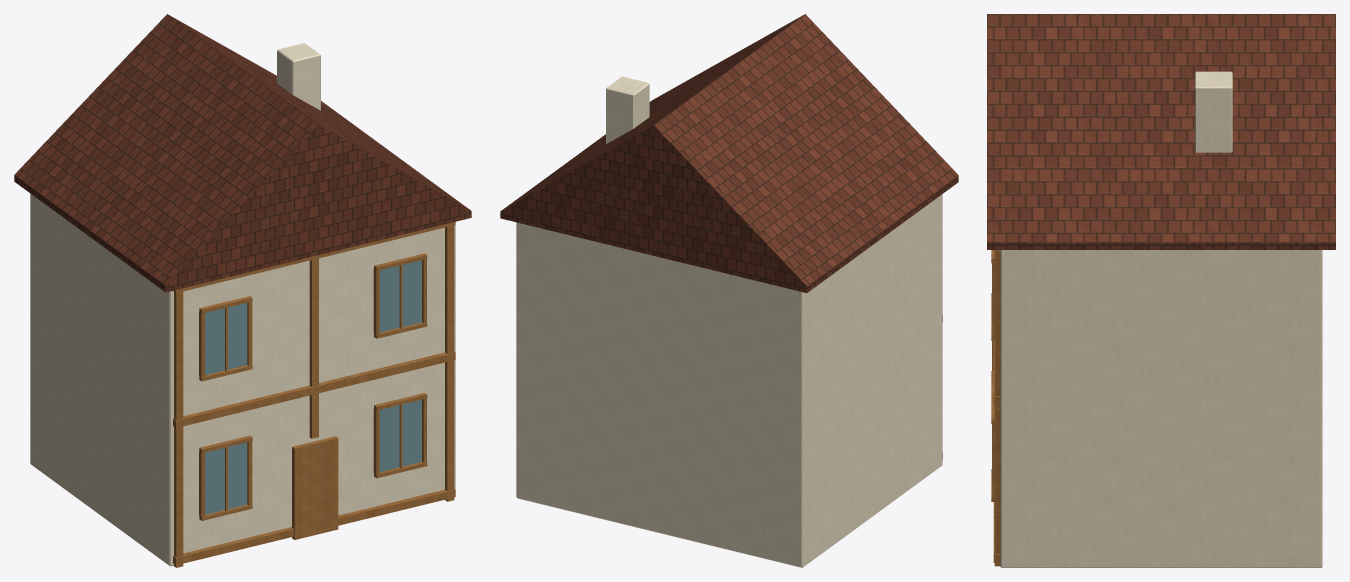
The model's file is Furn_Town_House_A.fbx.
The picture shows the model from 3 angles, left to right: view 1: azimuth 30°, elevation 25°; view 2: azimuth 150°, elevation 25°; view 3: azimuth 270°, elevation 25°; orthographic projection. The views are drawn at different scales.
Visible parts, largest first — view 1: Furn_Town_House_A_Mesh; view 2: Furn_Town_House_A_Mesh; view 3: Furn_Town_House_A_Mesh.
Boxes of the visible parts, x1=… form: Furn_Town_House_A_Mesh: x1=14, y1=14, x2=471, y2=567; Furn_Town_House_A_Mesh: x1=500, y1=14, x2=958, y2=567; Furn_Town_House_A_Mesh: x1=987, y1=14, x2=1335, y2=567.
Bounding box in the file's own units: 7 × 9 × 6.
4 materials, 3 textured.
